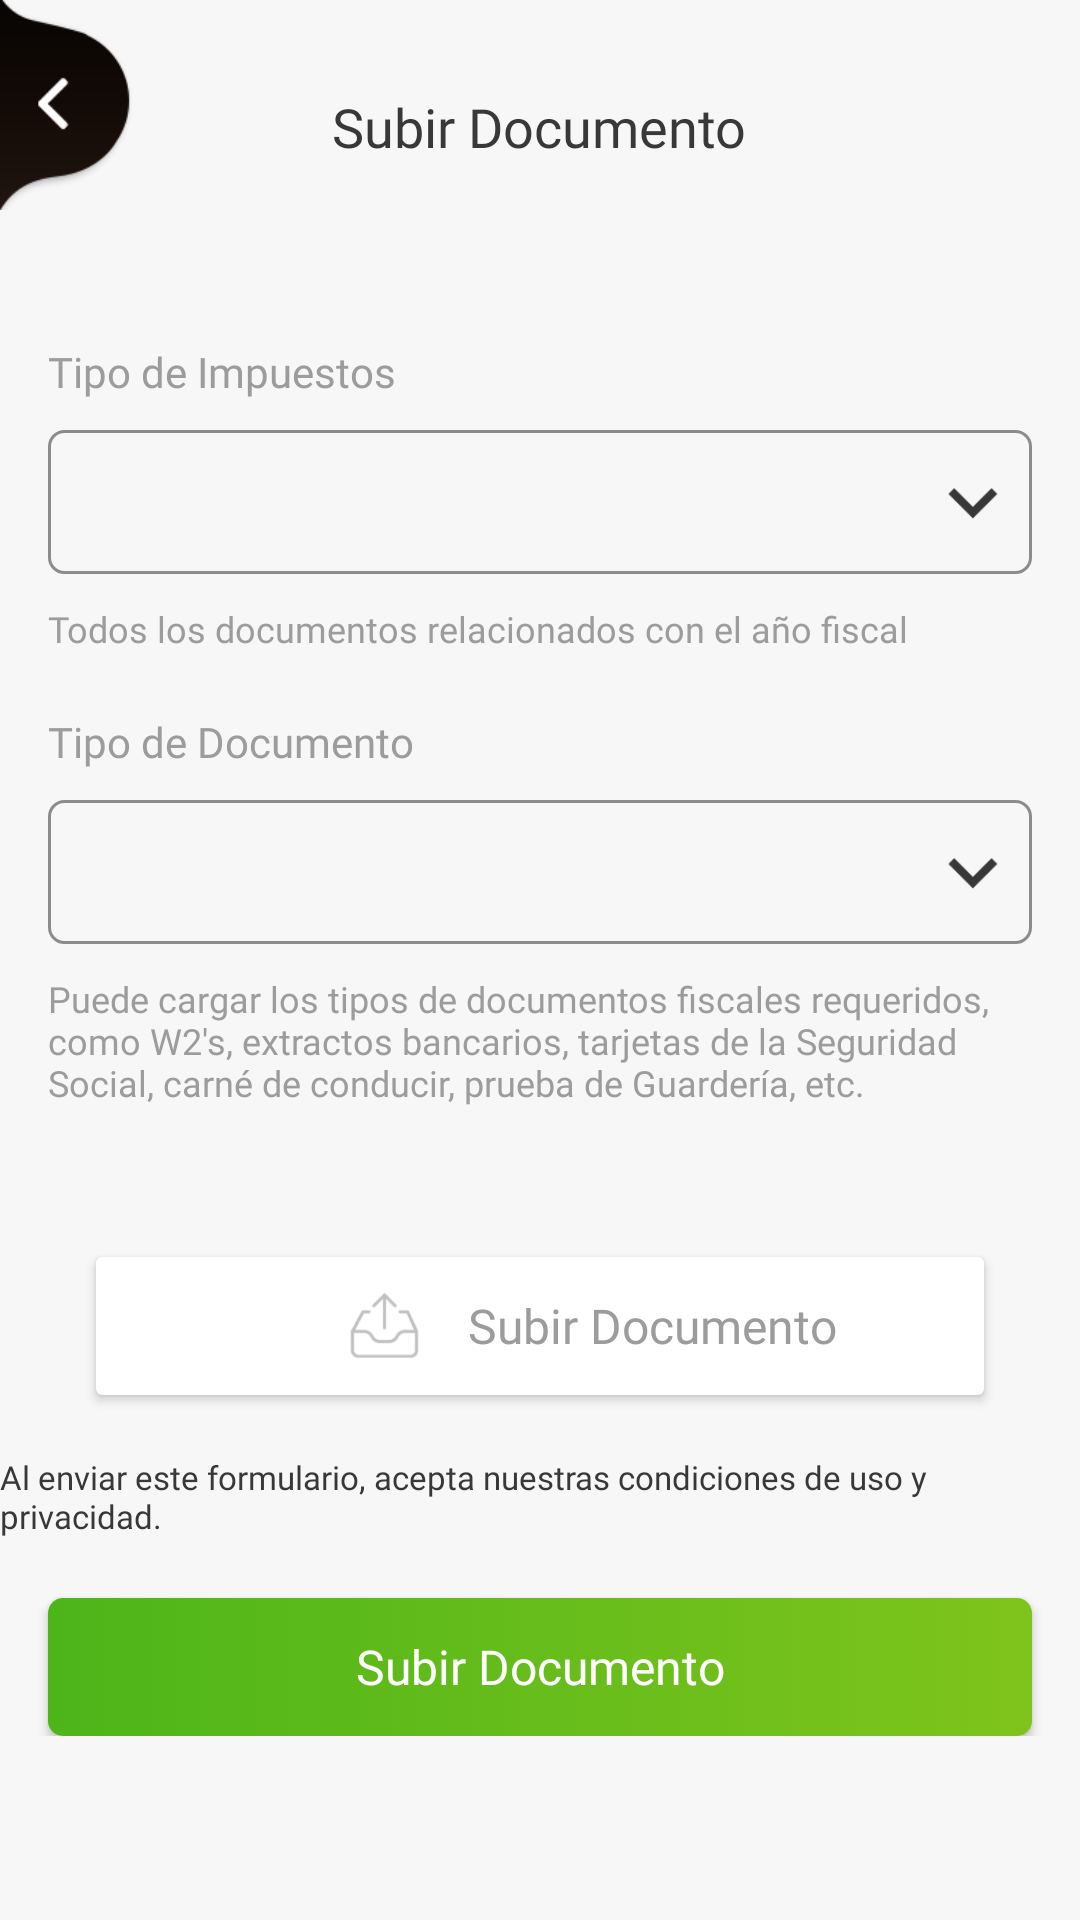

Screen size 1080 × 1920. Icon name, then its box in pixels as {"left": x1, "top": y1, "right": x2, "bottom": y2}:
back: {"left": 0, "top": 0, "right": 130, "bottom": 210}
down: {"left": 948, "top": 488, "right": 998, "bottom": 519}, {"left": 948, "top": 858, "right": 998, "bottom": 889}
